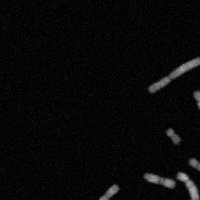chromosome: (148, 57, 200, 93), (177, 172, 200, 200), (142, 172, 175, 188), (91, 184, 119, 200), (167, 129, 181, 144), (188, 156, 200, 171), (194, 90, 200, 119), (185, 189, 200, 200)
